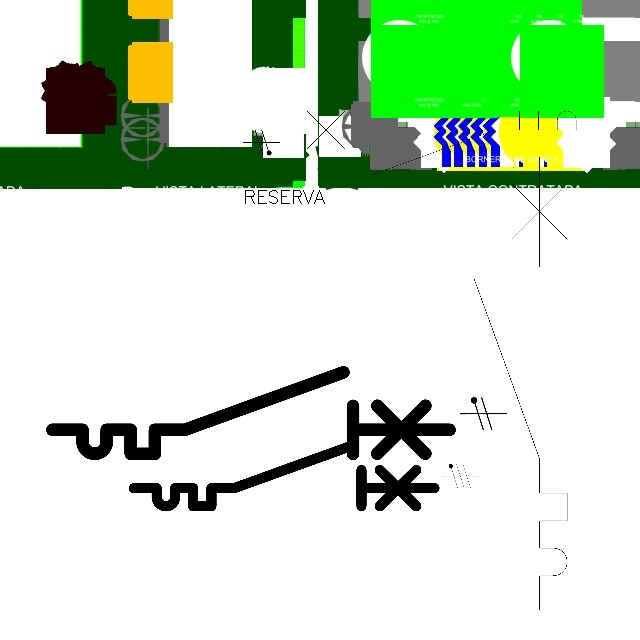interruptor_termomagnetico: (462, 145, 579, 622), (42, 362, 460, 464), (280, 103, 608, 183), (126, 437, 442, 514)
